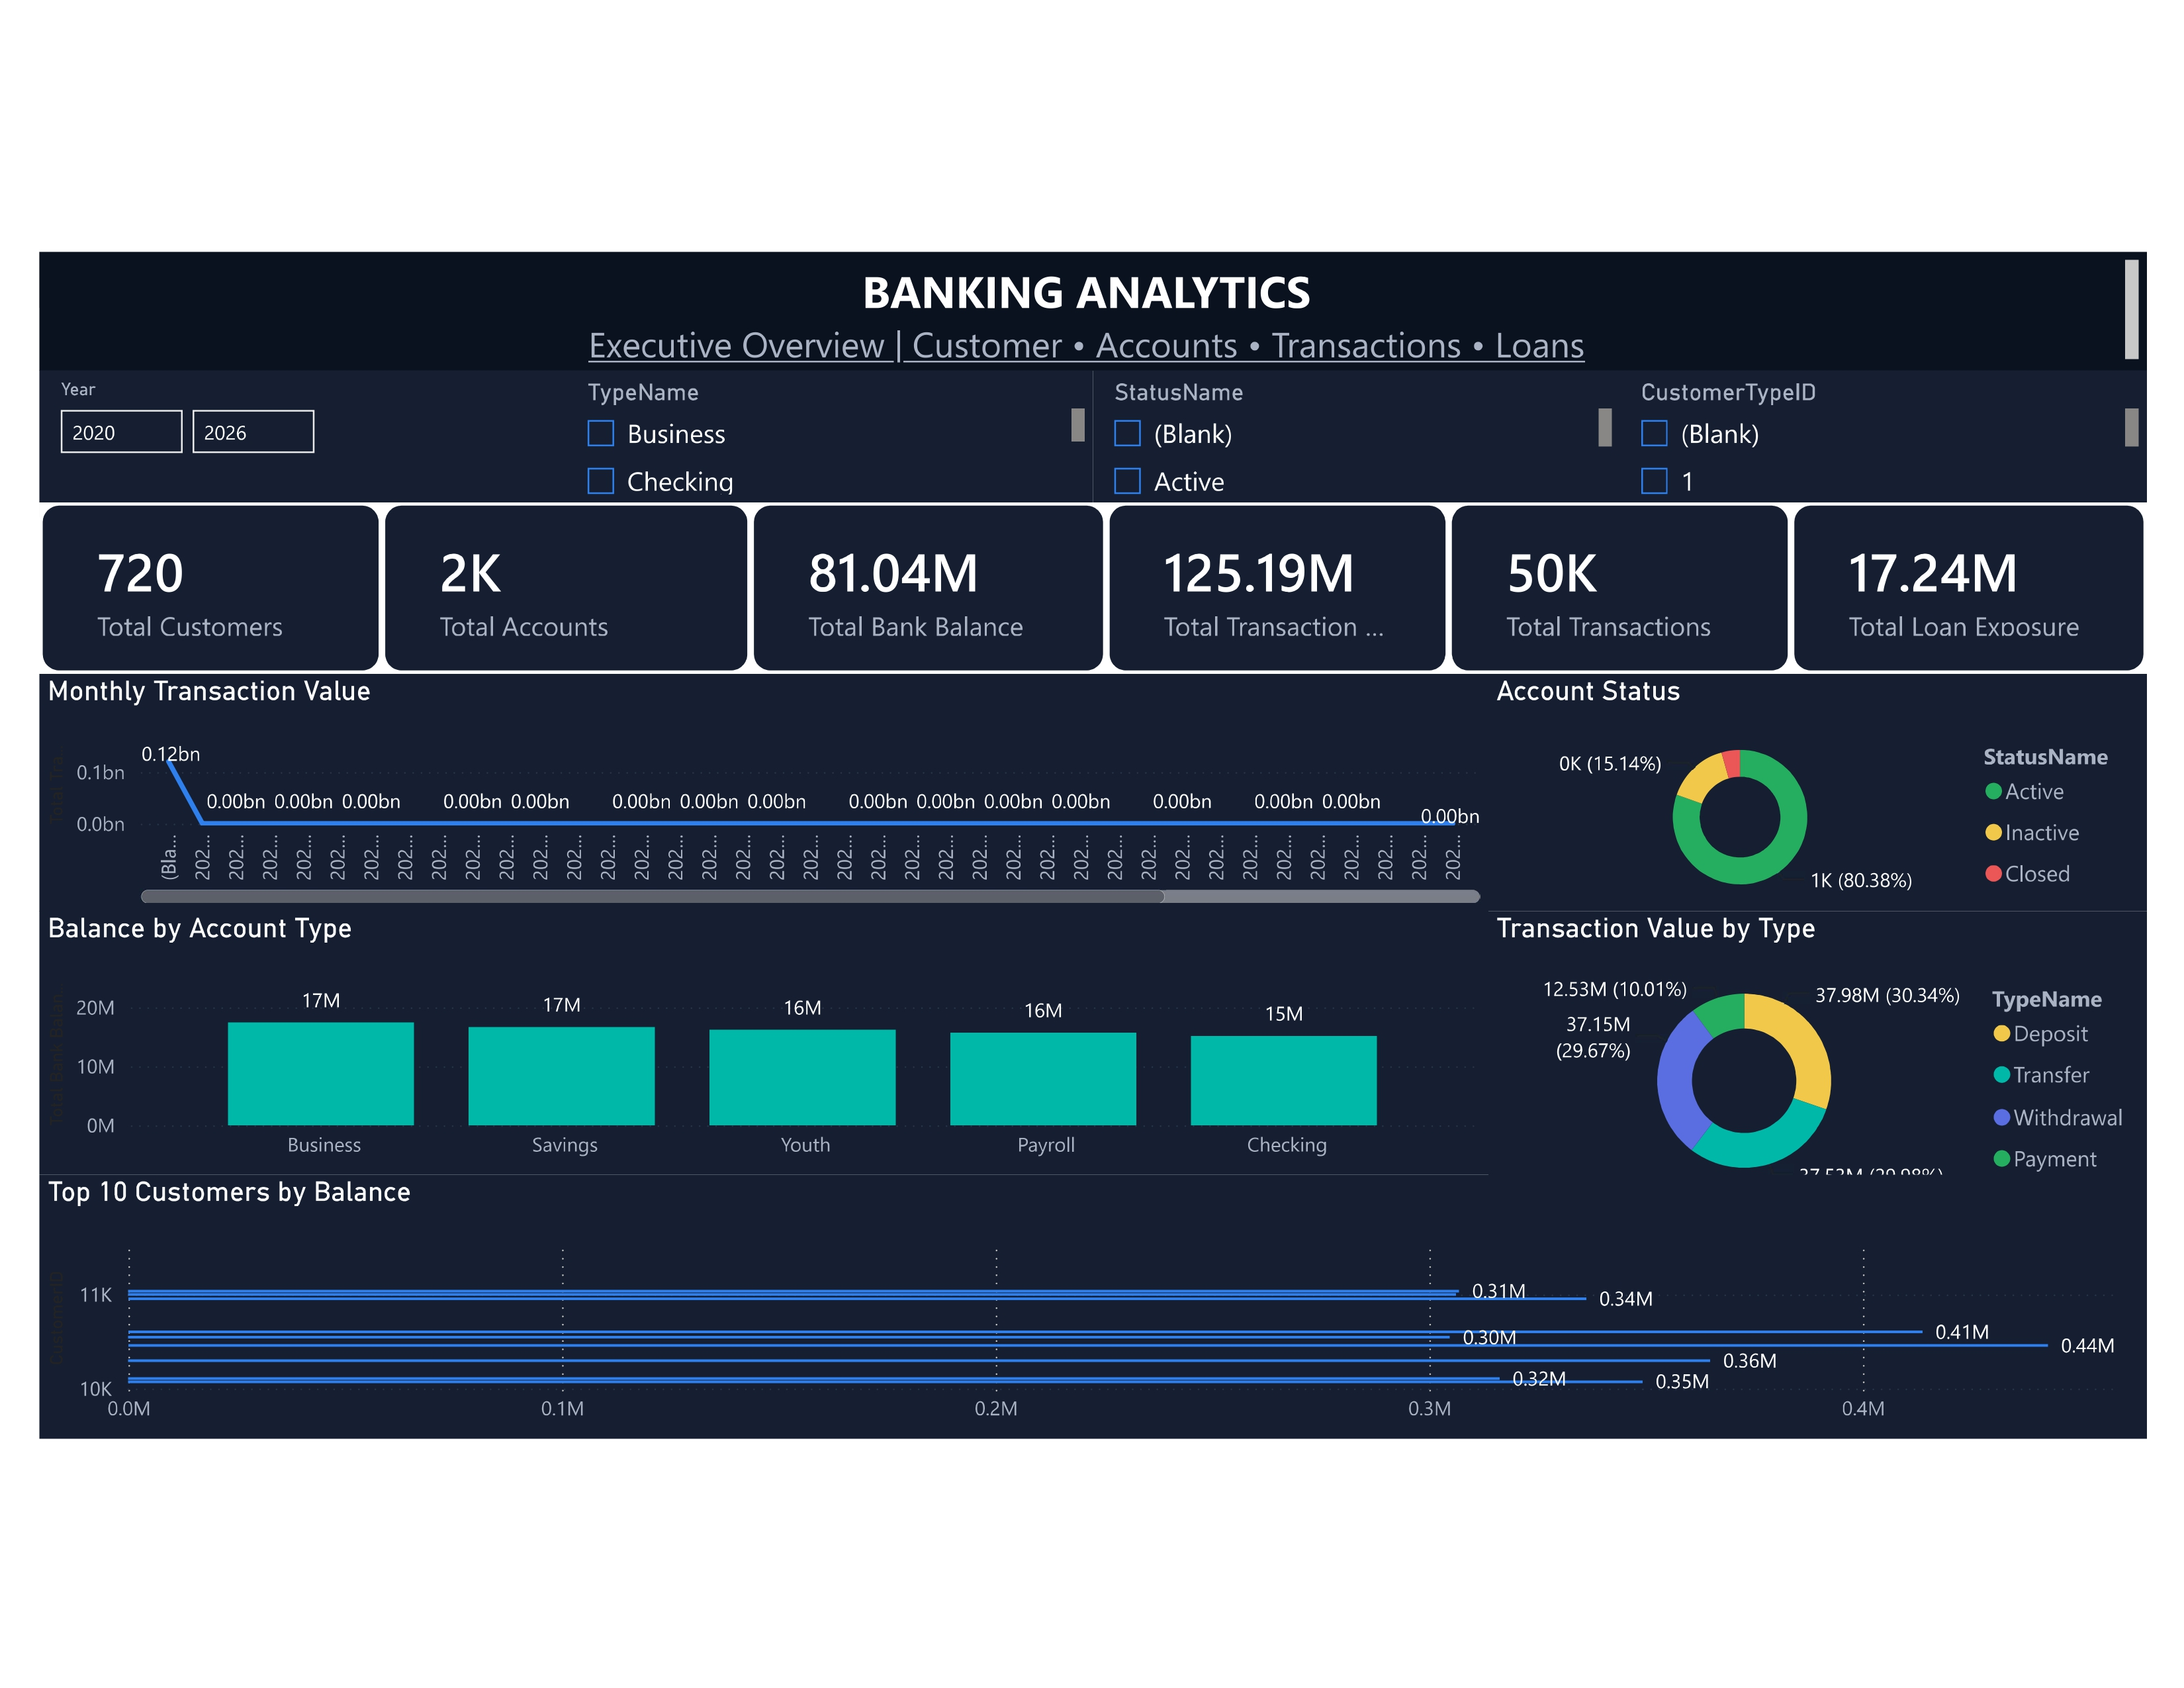

Layout of this report page (visuals, bound fields, positions):
{"tool":"powerbi","page":{"name":"Executive Overview","canvas":[1280,720],"ordinal":1},"visuals":[{"type":"textbox","box":[0,0,1280,72],"z":0},{"type":"cardVisual","fields":{"Data":["Measuers.Total Customers"]},"box":[0,152,208,104],"z":1000},{"type":"cardVisual","fields":{"Data":["Measuers.Total Bank Balance"]},"box":[432,152,216,104],"z":2000},{"type":"cardVisual","fields":{"Data":["Measuers.Total Accounts"]},"box":[208,152,224,104],"z":3000},{"type":"cardVisual","fields":{"Data":["Measuers.Total Transactions"]},"box":[856,152,208,104],"z":4000},{"type":"cardVisual","fields":{"Data":["Measuers.Total Transaction Value"]},"box":[648,152,208,104],"z":5000},{"type":"cardVisual","fields":{"Data":["Measuers.Total Loan Exposure"]},"box":[1064,152,216,104],"z":6000},{"type":"lineChart","title":"Monthly Transaction Value","fields":{"Category":["DateTable.Year Month"],"Y":["Measuers.Total Transaction Value"]},"box":[0,256,880,144],"z":7000},{"type":"donutChart","title":"Account Status","fields":{"Y":["Measuers.Total Accounts"],"Category":["account_statuses.StatusName"]},"box":[880,256,400,144],"z":8000},{"type":"clusteredColumnChart","title":"Balance by Account Type","fields":{"Category":["account_types.TypeName"],"Y":["Measuers.Total Bank Balance"]},"box":[0,400,880,160],"z":9000},{"type":"donutChart","title":"Transaction Value by Type","fields":{"Y":["Measuers.Total Transaction Value"],"Category":["transaction_types.TypeName"]},"box":[880,400,400,176],"z":10000},{"type":"clusteredBarChart","title":"Top 10 Customers by Balance","fields":{"Y":["Measuers.Total Bank Balance"],"Category":["customers.CustomerID"]},"box":[0,560,1280,160],"z":11000},{"type":"slicer","fields":{"Values":["DateTable.Year"]},"box":[0,72,320,80],"z":12000},{"type":"slicer","fields":{"Values":["account_types.TypeName"]},"box":[320,72,320,80],"z":13000},{"type":"slicer","fields":{"Values":["customers.CustomerTypeID"]},"box":[960,72,320,80],"z":14000},{"type":"slicer","fields":{"Values":["account_statuses.StatusName"]},"box":[640,72,320,80],"z":15000}]}

Visuals, with their boxes on the page's 1280x720 design canvas (x1, y1, x2, y2). These are canvas units, not pixel positions in the 2184x1688 screenshot, which may show the page scaled, cropped or inside an application window:
textbox: pyautogui.locateOnScreen(0, 0, 1280, 72)
cardVisual - Measuers.Total Customers: pyautogui.locateOnScreen(0, 152, 208, 256)
cardVisual - Measuers.Total Bank Balance: pyautogui.locateOnScreen(432, 152, 648, 256)
cardVisual - Measuers.Total Accounts: pyautogui.locateOnScreen(208, 152, 432, 256)
cardVisual - Measuers.Total Transactions: pyautogui.locateOnScreen(856, 152, 1064, 256)
cardVisual - Measuers.Total Transaction Value: pyautogui.locateOnScreen(648, 152, 856, 256)
cardVisual - Measuers.Total Loan Exposure: pyautogui.locateOnScreen(1064, 152, 1280, 256)
"Monthly Transaction Value" lineChart: pyautogui.locateOnScreen(0, 256, 880, 400)
"Account Status" donutChart: pyautogui.locateOnScreen(880, 256, 1280, 400)
"Balance by Account Type" clusteredColumnChart: pyautogui.locateOnScreen(0, 400, 880, 560)
"Transaction Value by Type" donutChart: pyautogui.locateOnScreen(880, 400, 1280, 576)
"Top 10 Customers by Balance" clusteredBarChart: pyautogui.locateOnScreen(0, 560, 1280, 720)
slicer - DateTable.Year: pyautogui.locateOnScreen(0, 72, 320, 152)
slicer - account_types.TypeName: pyautogui.locateOnScreen(320, 72, 640, 152)
slicer - customers.CustomerTypeID: pyautogui.locateOnScreen(960, 72, 1280, 152)
slicer - account_statuses.StatusName: pyautogui.locateOnScreen(640, 72, 960, 152)
